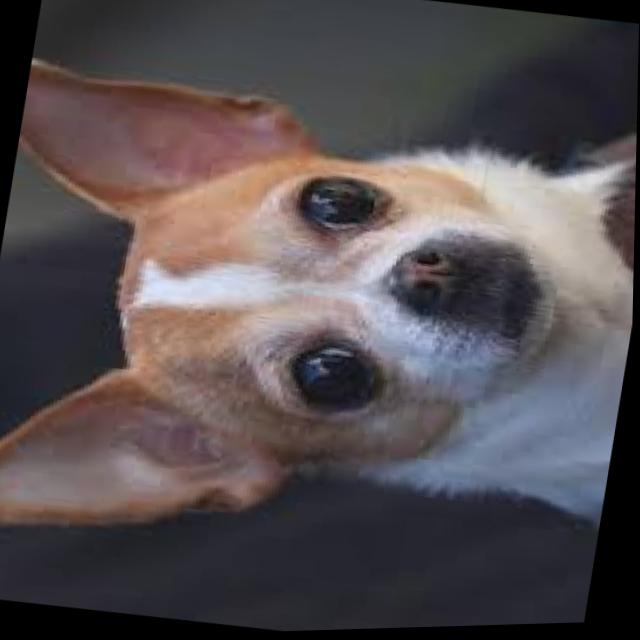Chihuahua: (1, 42, 640, 608)
